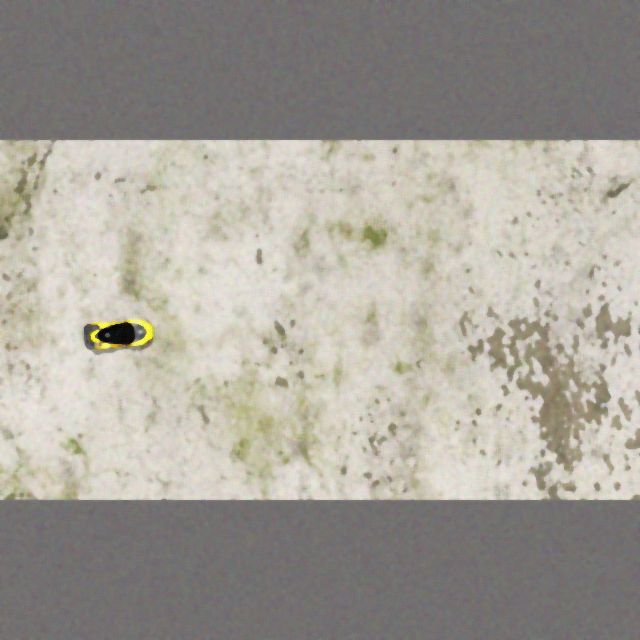car: (81, 315, 156, 352)
